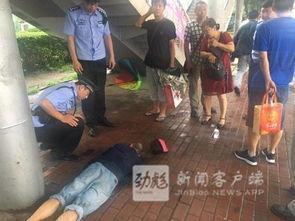Fall-Detected: (0, 134, 168, 218)
